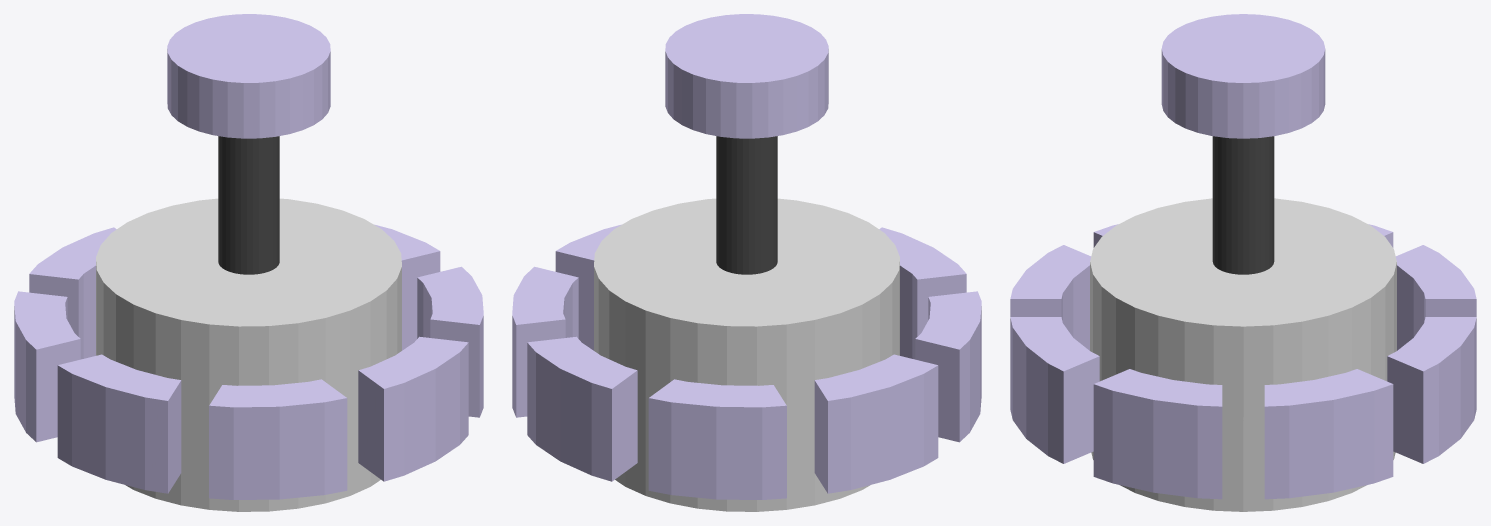
The model's file is HammerTurm.fbx.
3 renders of one model, left to right at view 1: azimuth 30°, elevation 25°; view 2: azimuth 150°, elevation 25°; view 3: azimuth 270°, elevation 25°, orthographic.
Parts seen in each view (by area): view 1: Cylinder, Cylinder.001, Cylinder.002, Cylinder.003; view 2: Cylinder, Cylinder.001, Cylinder.002, Cylinder.003; view 3: Cylinder, Cylinder.001, Cylinder.002, Cylinder.003.
Part boxes in pixels (bbox=[...]): Cylinder: bbox=[14, 224, 483, 499]; Cylinder.001: bbox=[96, 198, 401, 511]; Cylinder.002: bbox=[167, 14, 330, 138]; Cylinder.003: bbox=[218, 136, 279, 274]; Cylinder: bbox=[512, 224, 981, 499]; Cylinder.001: bbox=[594, 198, 899, 511]; Cylinder.002: bbox=[665, 14, 828, 138]; Cylinder.003: bbox=[716, 136, 777, 274]; Cylinder: bbox=[1010, 224, 1476, 499]; Cylinder.001: bbox=[1090, 198, 1396, 511]; Cylinder.002: bbox=[1161, 14, 1325, 138]; Cylinder.003: bbox=[1212, 136, 1274, 274].
Size of the model in its own units: 456 by 430 by 456.
